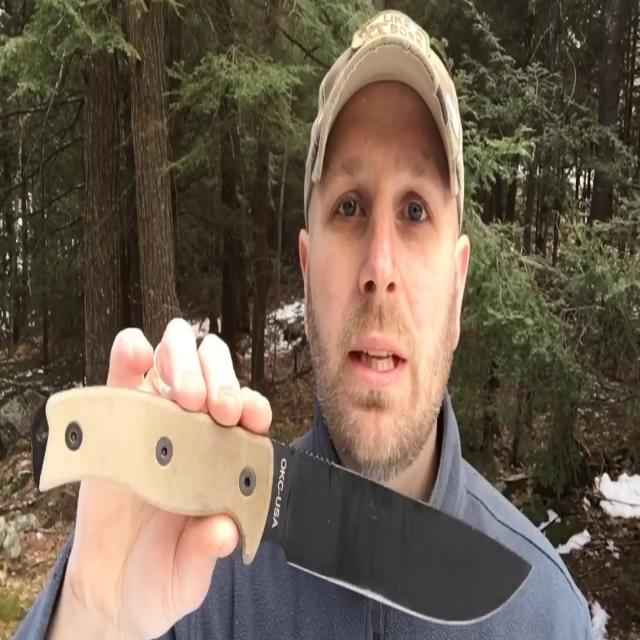knife: (21, 374, 537, 626)
